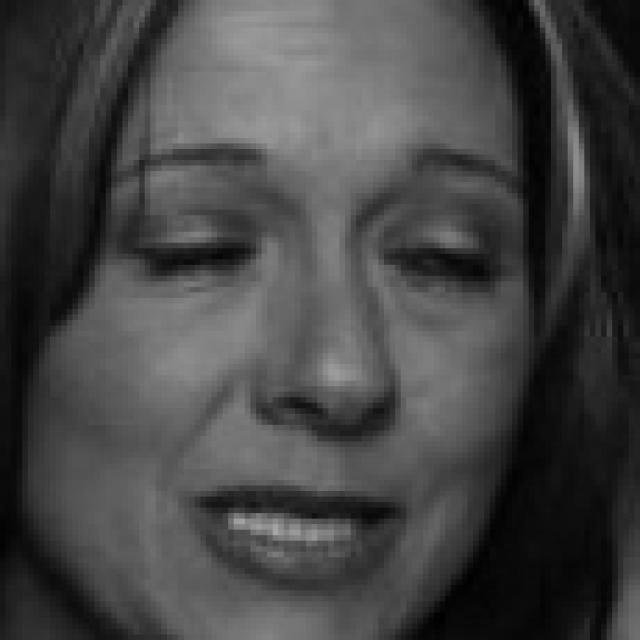real: (53, 12, 516, 608), (138, 174, 518, 333)
